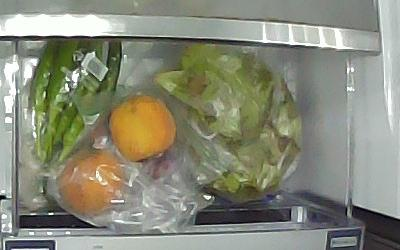peach: (109, 96, 176, 162)
peach_vinyl: (61, 154, 127, 217)
